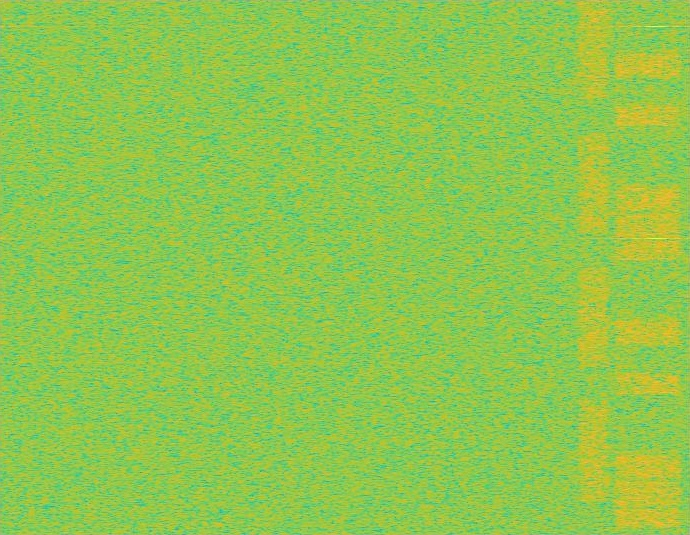5G: (577, 0, 611, 534)
LTE: (613, 0, 682, 534)
Radar: (650, 0, 664, 534)
